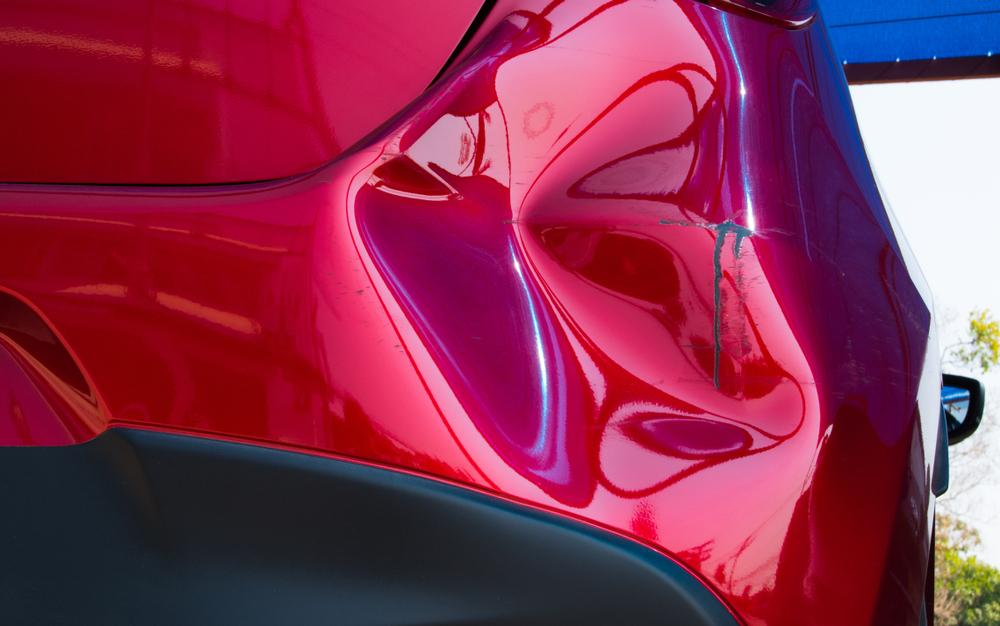dent: (339, 79, 805, 504)
